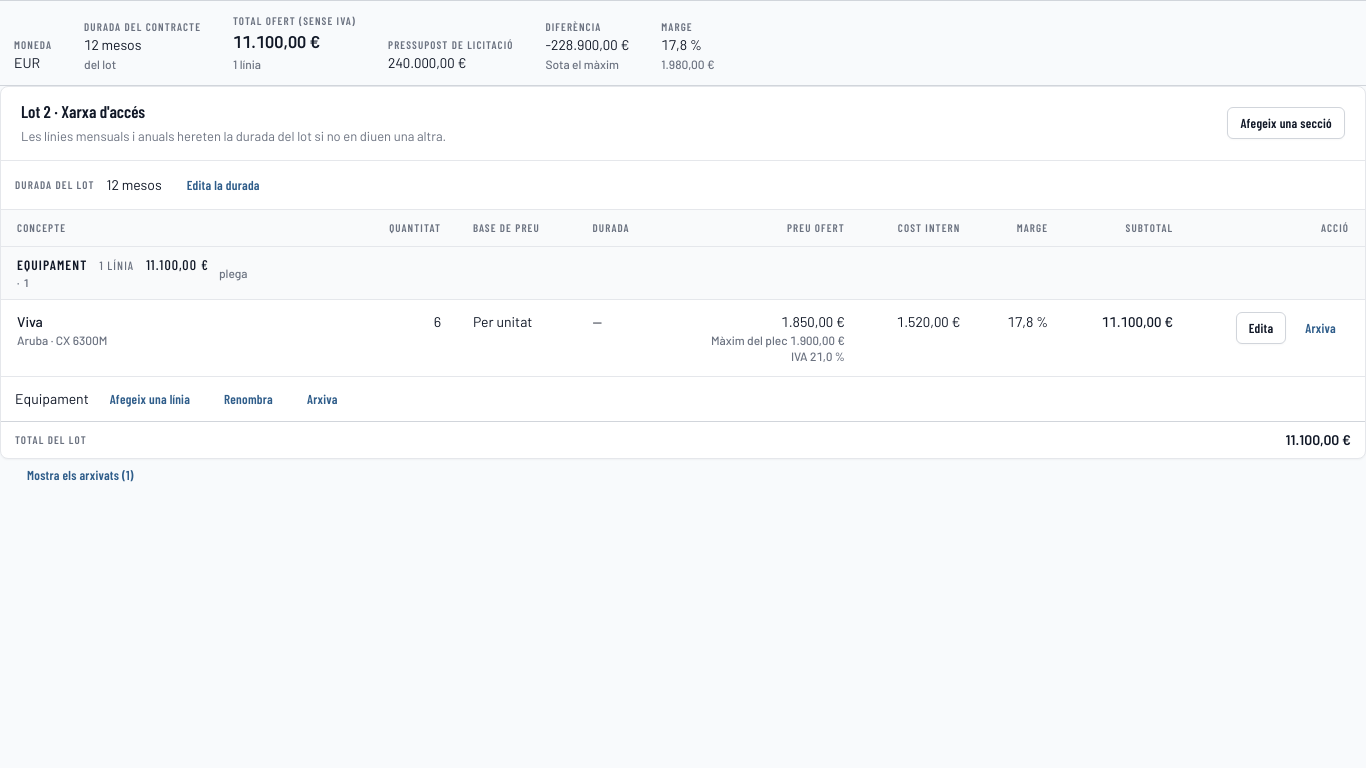
Scenario: Oferta econòmica · edició › les línies arxivades no es veuen fins que es demanen
Expected: the text "Vella" is not shown
Click the button "Mostra els arxivats (1)": (80, 475) [14,459,147,491]
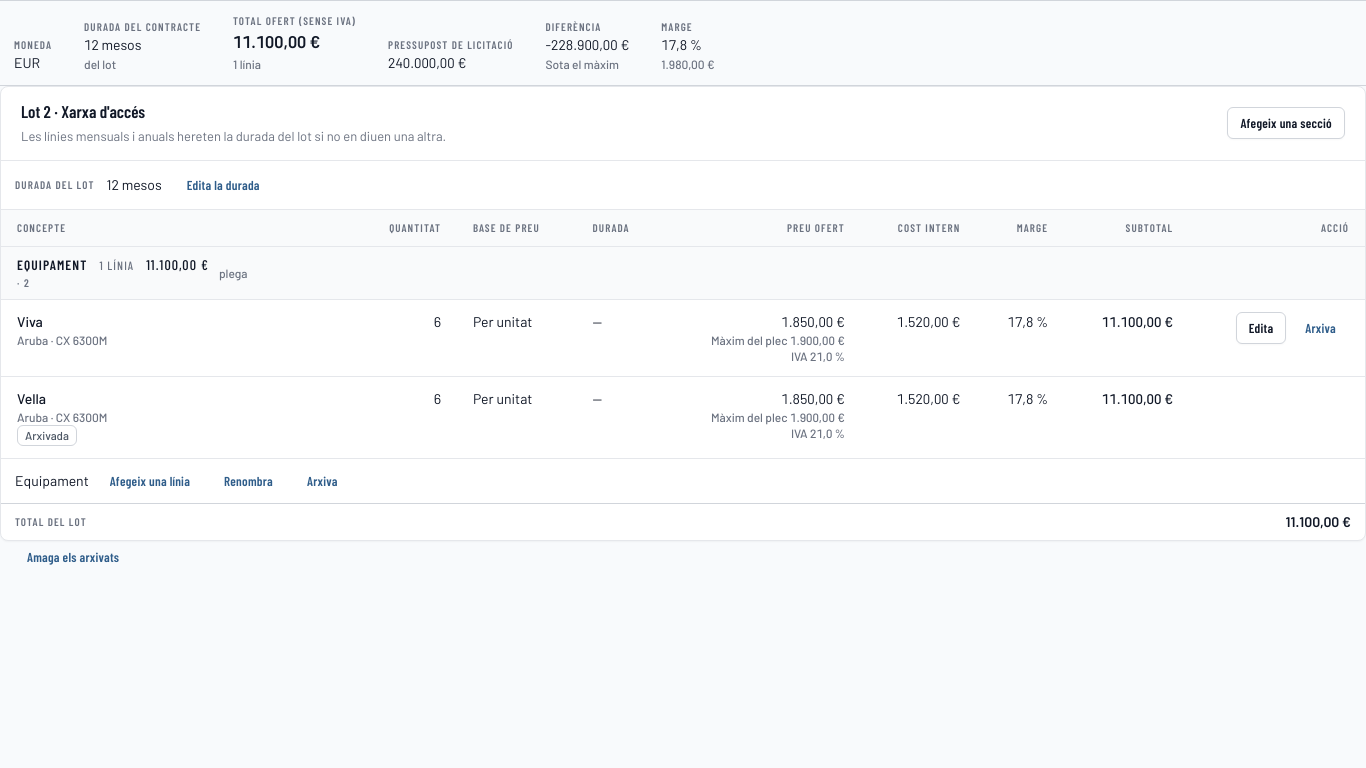
Result: the text "Vella" is shown at [17,390,46,407]
